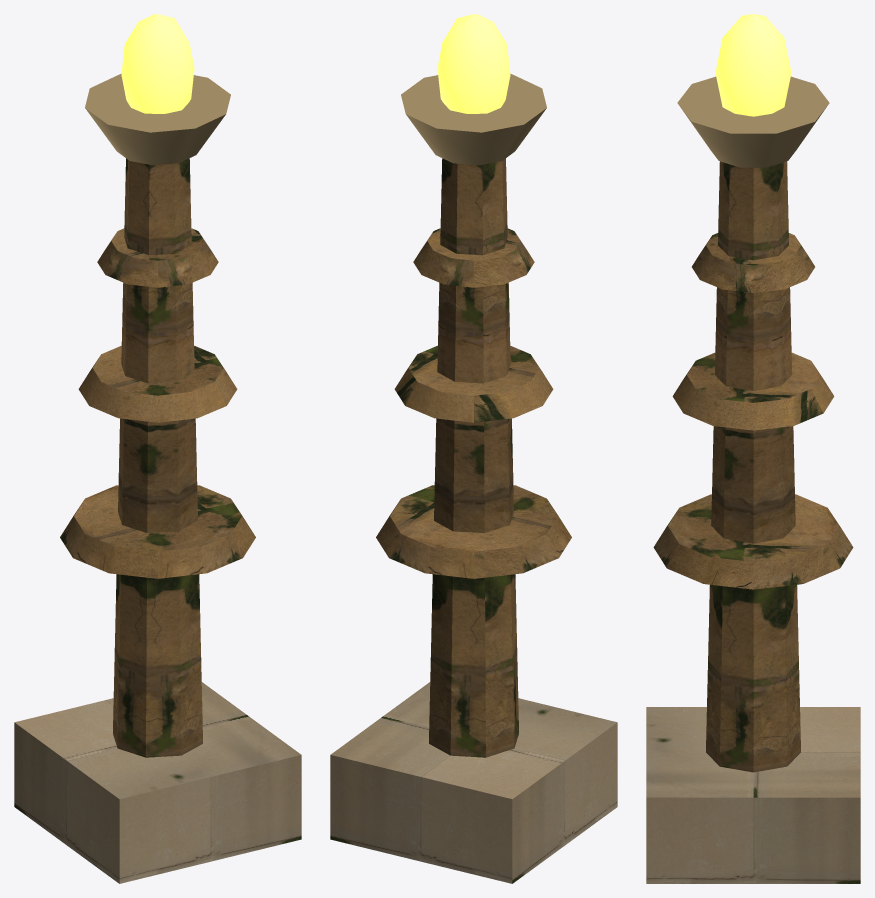
File: LampPillar.fbx
3 renders of one model, left to right at view 1: azimuth 30°, elevation 25°; view 2: azimuth 150°, elevation 25°; view 3: azimuth 270°, elevation 25°, orthographic.
Parts seen in each view (by area): view 1: LampPillar_LOD0; view 2: LampPillar_LOD0; view 3: LampPillar_LOD0.
Boxes of the visible parts, <box> form: LampPillar_LOD0: <box>14,14,301,883</box>; LampPillar_LOD0: <box>330,14,617,883</box>; LampPillar_LOD0: <box>646,14,860,883</box>.
Size of what is drawn, in the model's own units: 0.9 by 3.82 by 0.9.
